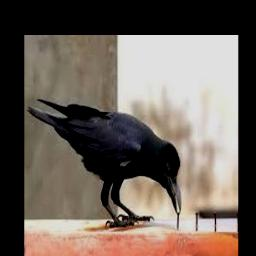Crow: (26, 97, 181, 228)
